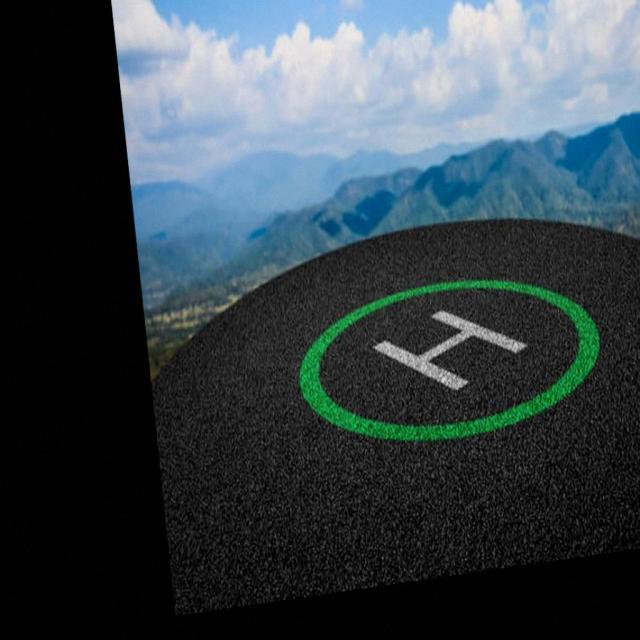helipad: (291, 274, 606, 444)
